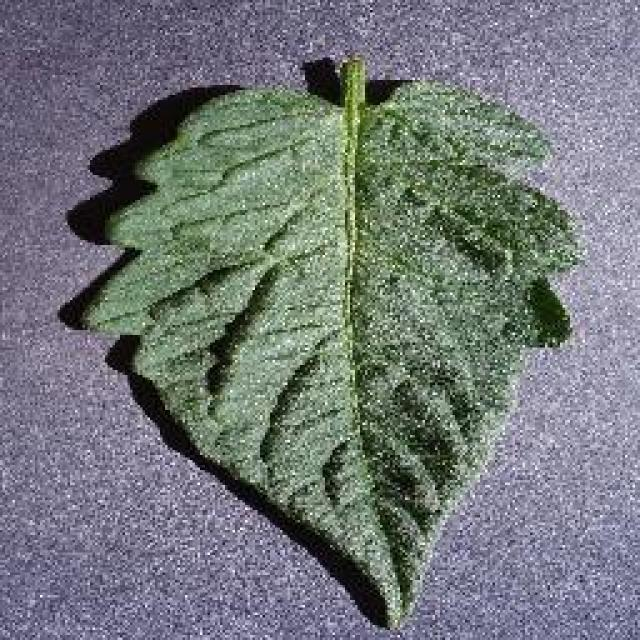Tomato___healthy: (72, 57, 591, 634)
